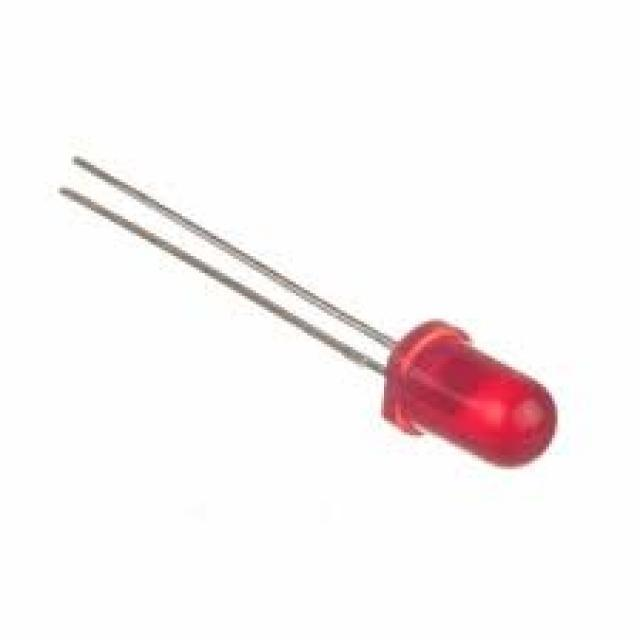Led: (60, 158, 556, 466)
